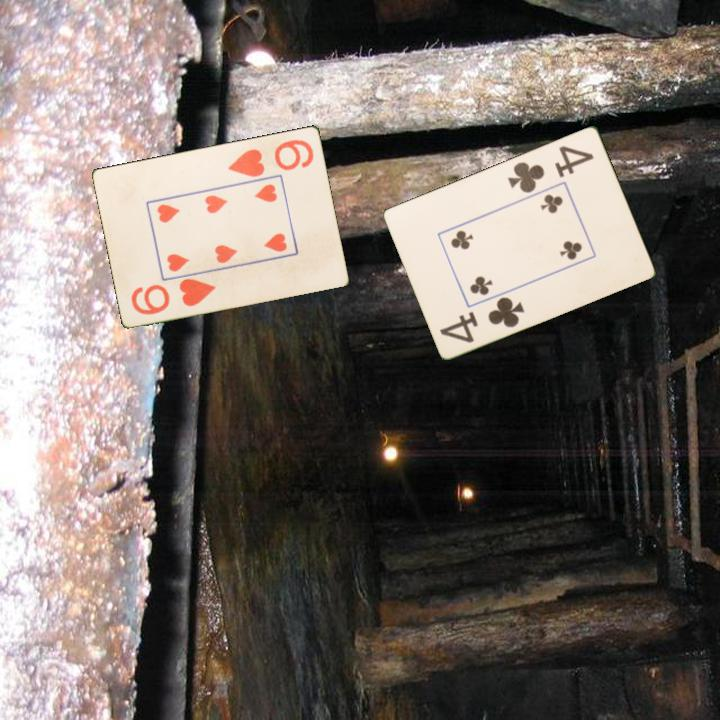4c: (504, 142, 597, 196), (436, 293, 528, 346)
6h: (224, 136, 317, 179), (128, 274, 219, 317)
